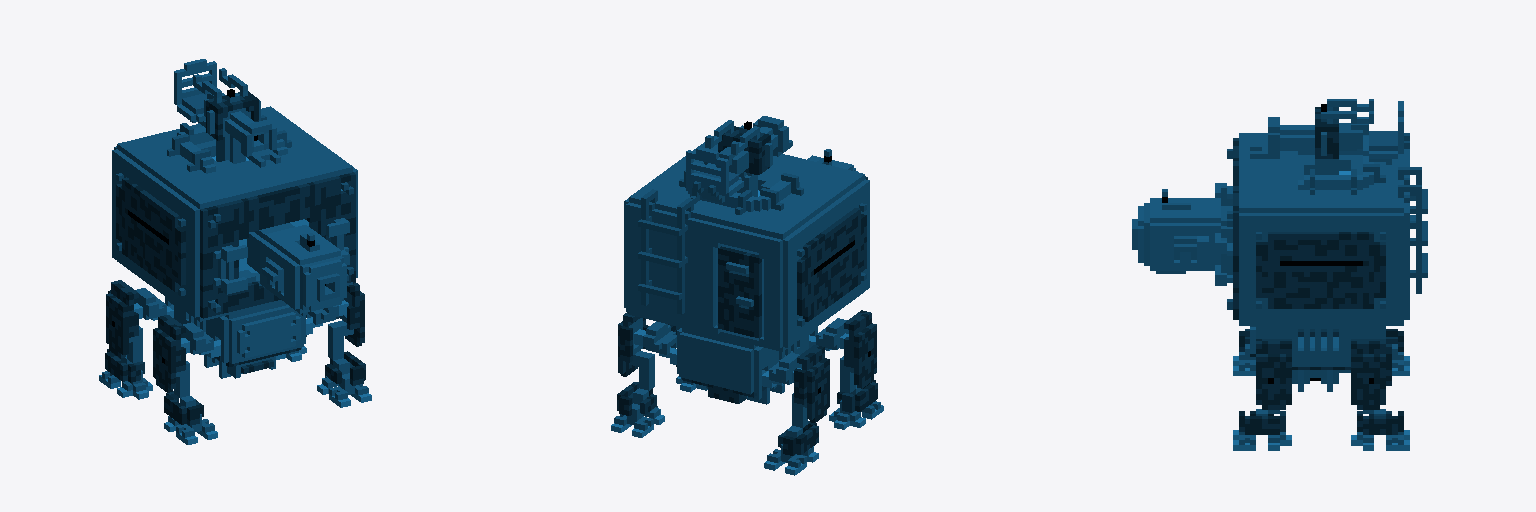
3 renders of one model, left to right at view 1: azimuth 30°, elevation 25°; view 2: azimuth 150°, elevation 25°; view 3: azimuth 270°, elevation 25°, orthographic.
Visible parts, largest first — view 1: object 1; view 2: object 1; view 3: object 1.
Part boxes in pixels (left/top/right/bottom): object 1: left=99, top=59, right=371, bottom=444; object 1: left=611, top=116, right=883, bottom=475; object 1: left=1132, top=99, right=1427, bottom=450.
Size of the model in its own units: 3.8 by 5.6 by 5.
1 materials, 1 textured.